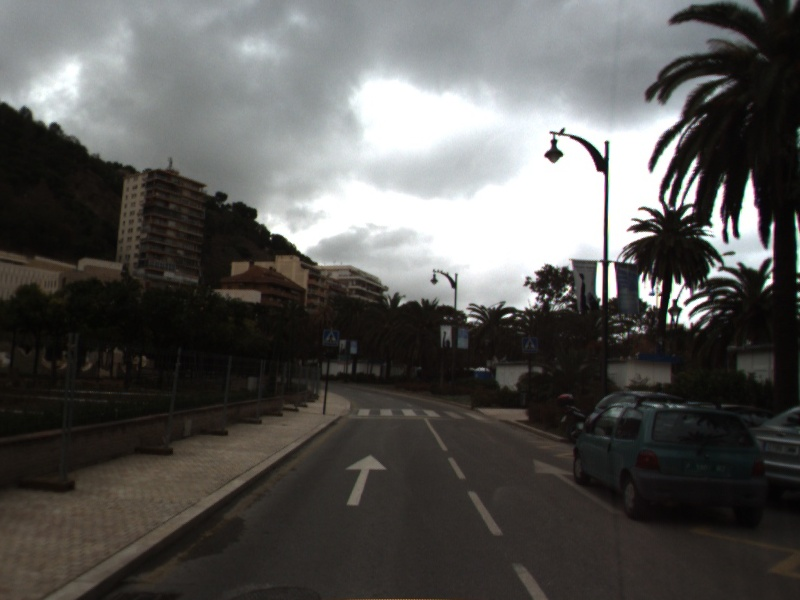STRAIGHT: (532, 457, 627, 515), (344, 453, 389, 507)
